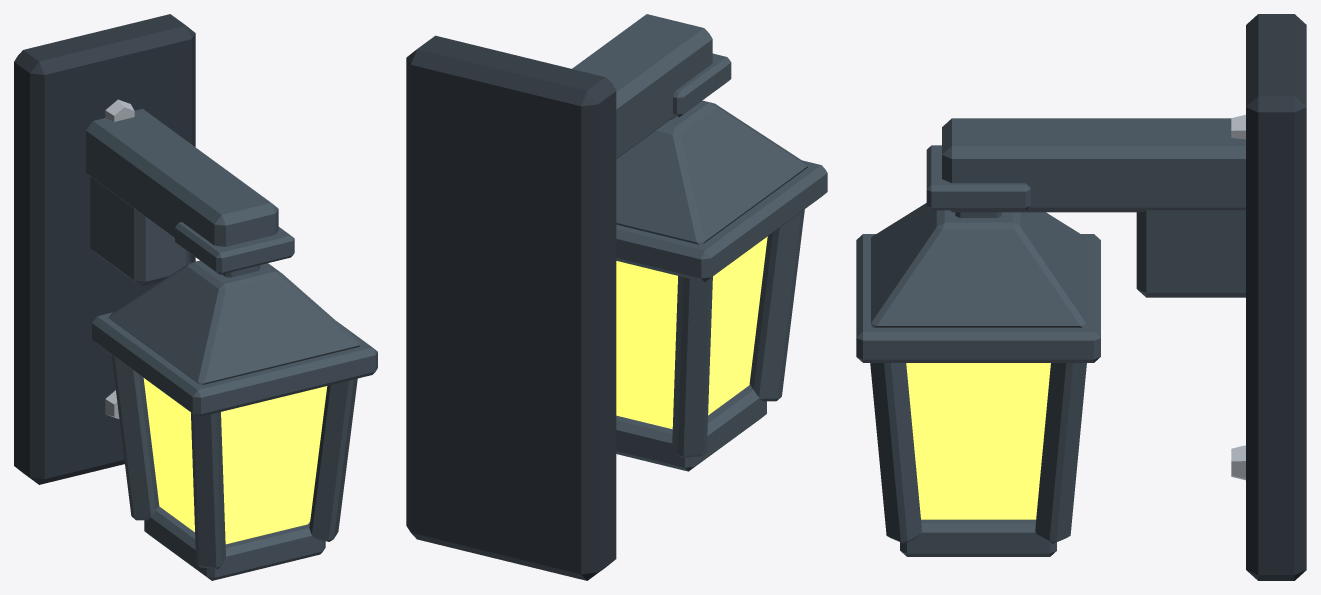
The model's file is Court_WallLamp.fbx.
3 renders of one model, left to right at view 1: azimuth 30°, elevation 25°; view 2: azimuth 150°, elevation 25°; view 3: azimuth 270°, elevation 25°, orthographic. The views are drawn at different scales.
Parts seen in each view (by area): view 1: Frame, FrameDark, Glow, SteelLight; view 2: FrameDark, Frame, Glow; view 3: Frame, FrameDark, Glow, SteelLight.
Part boxes in pixels (box(x1,y1,x2,y2)): Frame: box(86, 109, 377, 580); FrameDark: box(14, 14, 195, 484); Glow: box(143, 378, 327, 544); SteelLight: box(105, 99, 134, 418); FrameDark: box(406, 35, 616, 580); Frame: box(572, 14, 827, 471); Glow: box(616, 236, 767, 429); Frame: box(856, 118, 1245, 556); FrameDark: box(1246, 14, 1306, 580); Glow: box(906, 363, 1050, 519); SteelLight: box(1231, 114, 1245, 480).
Size of the model in its own units: 1.01 by 2.2 by 1.85.
